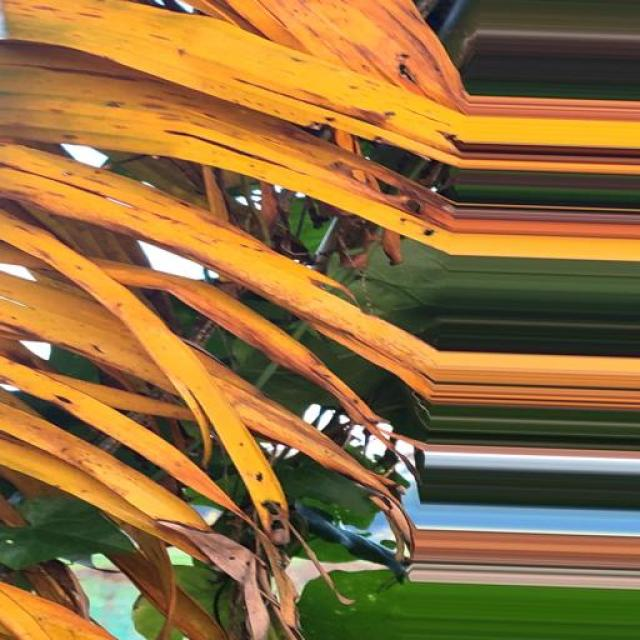Cordana: (0, 0, 489, 615)
